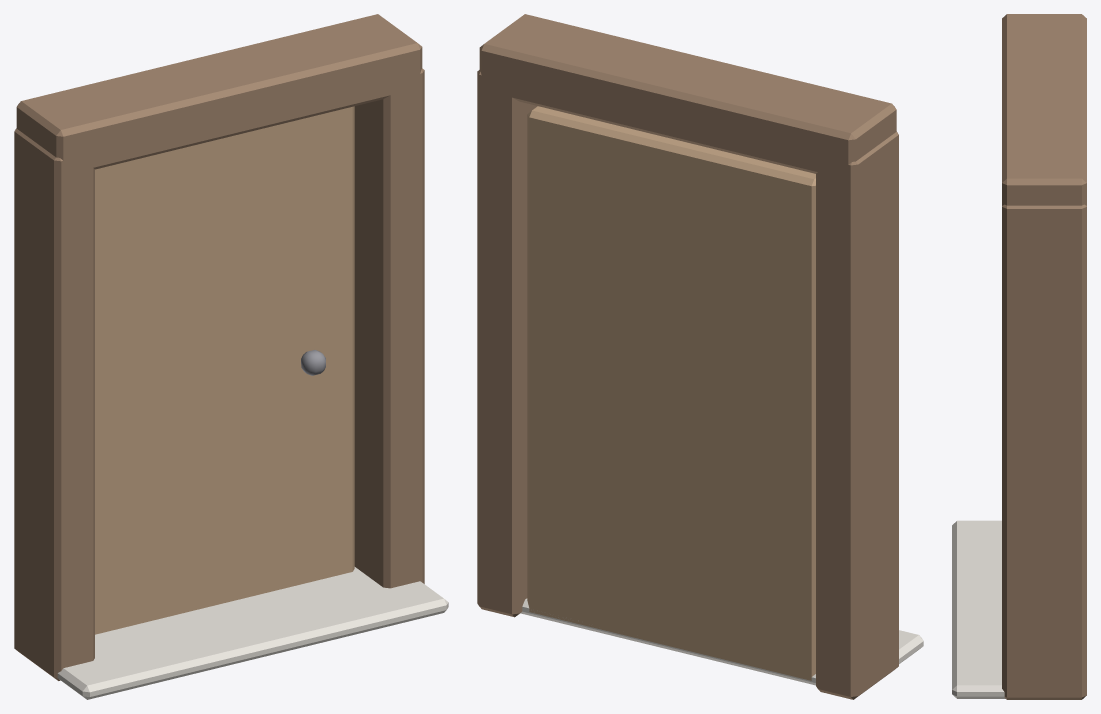
File: prop_door.glb
The picture shows the model from 3 angles, left to right: view 1: azimuth 30°, elevation 25°; view 2: azimuth 150°, elevation 25°; view 3: azimuth 270°, elevation 25°; orthographic projection. The views are drawn at different scales.
Parts seen in each view (by area): view 1: prop_door; view 2: prop_door; view 3: prop_door.
Boxes of the visible parts, x1,y1,x2,y2 form: prop_door: (14,14,448,699); prop_door: (477,14,923,699); prop_door: (952,14,1086,699).
Size of the model in its own units: 1.62 by 2.3 by 0.54.
